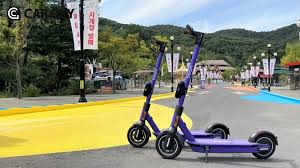kick_board: (158, 25, 277, 158)
kick_body: (197, 138, 250, 153)
kick_handler: (183, 24, 204, 43), (153, 40, 166, 51)
kick_neck: (176, 46, 198, 118), (141, 52, 162, 115)
kick_wheel: (155, 129, 181, 158), (251, 130, 277, 158), (128, 123, 149, 147), (211, 123, 228, 139)
